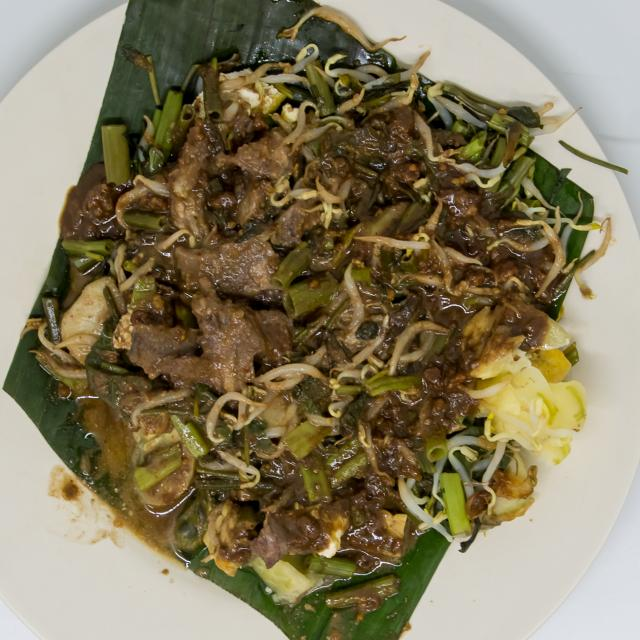Rujak-Cingur: (40, 38, 593, 567)
